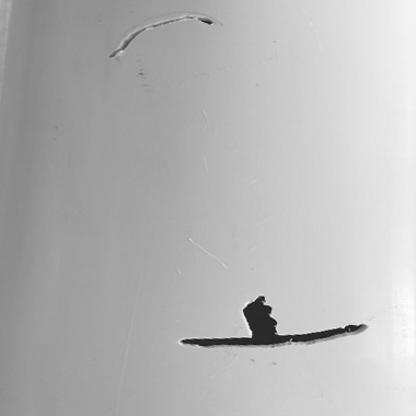fengxi: (109, 14, 216, 60), (180, 324, 369, 349)
kongdong: (238, 293, 288, 336)
